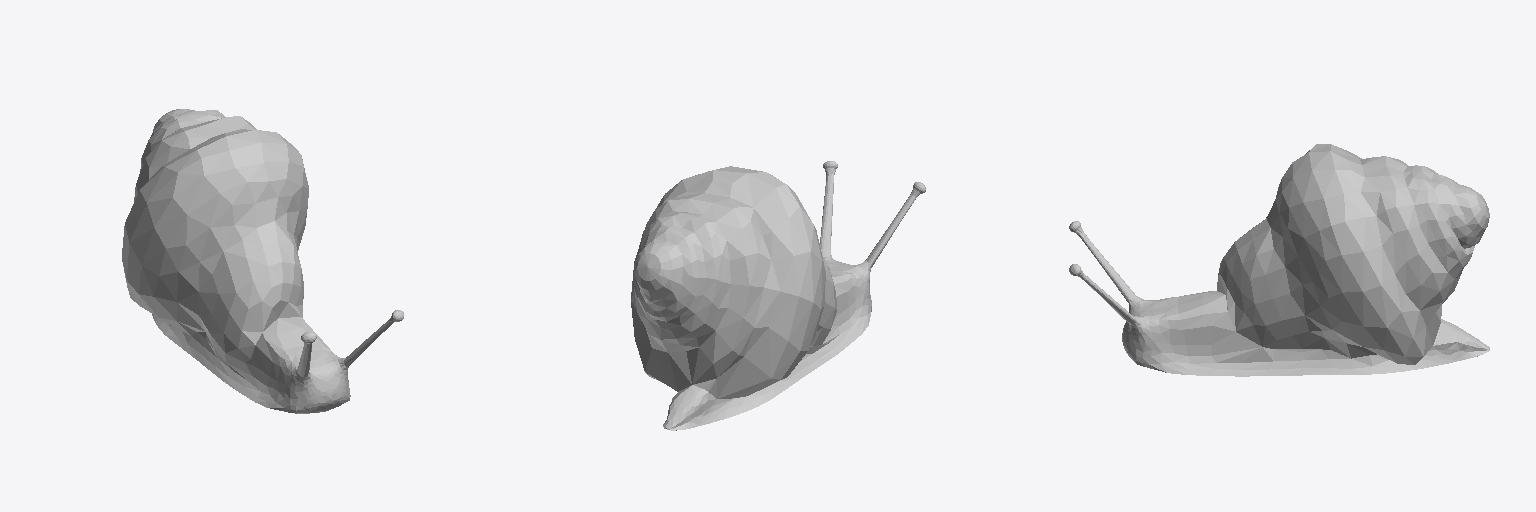
Rendered from SNAIL.OBJ.
3 renders of one model, left to right at view 1: azimuth 30°, elevation 25°; view 2: azimuth 150°, elevation 25°; view 3: azimuth 270°, elevation 25°, orthographic.
Visible parts, largest first — view 1: snailbody; view 2: snailbody; view 3: snailbody.
Part boxes in pixels (bbox=[...]): snailbody: bbox=[122, 109, 403, 413]; snailbody: bbox=[631, 161, 925, 430]; snailbody: bbox=[1069, 144, 1489, 376].
Size of the model in its own units: 0.0057 by 0.0064 by 0.012.